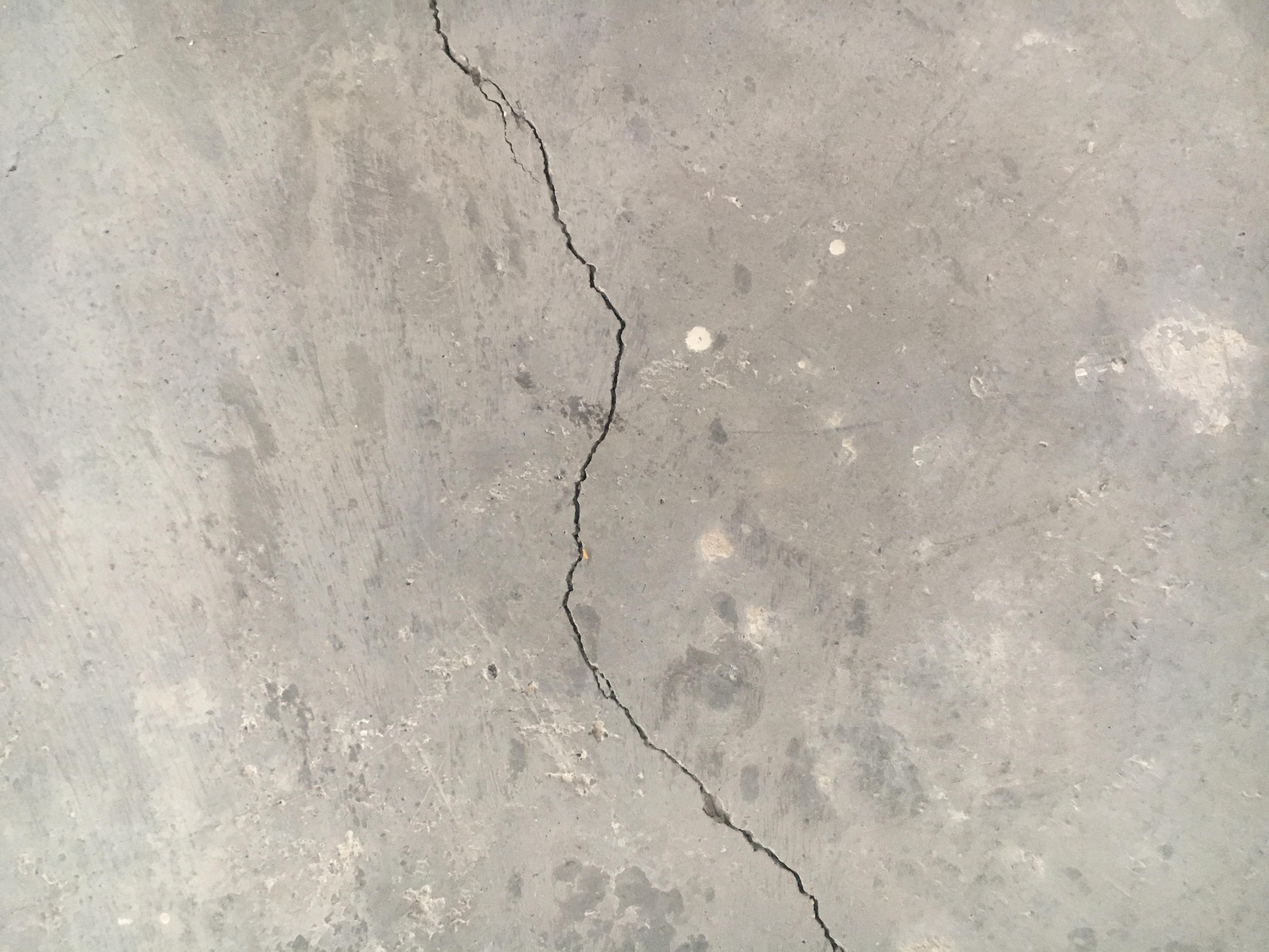Vertical Crack: (426, 2, 845, 948)
